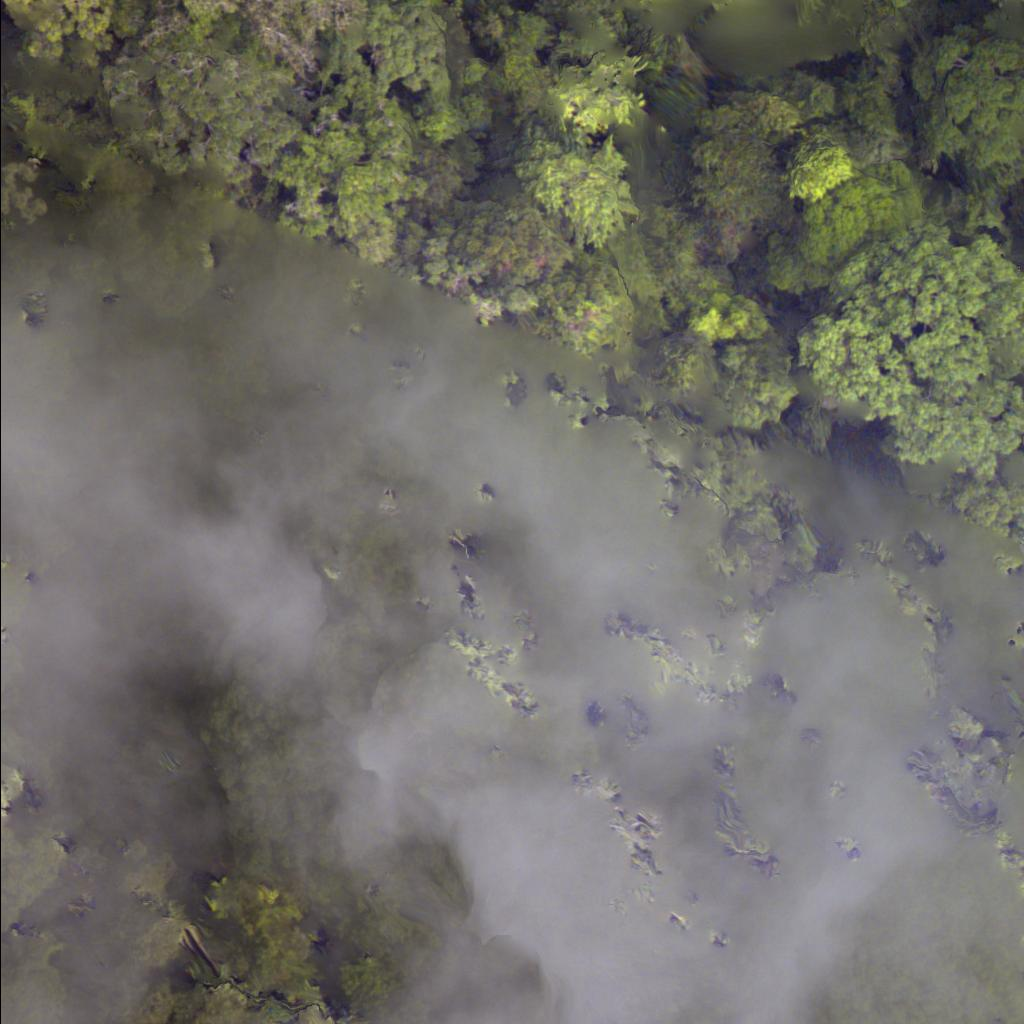crown: (821, 225, 1023, 493), (762, 98, 938, 305), (81, 37, 305, 180), (903, 44, 1023, 202), (149, 0, 349, 66), (0, 0, 137, 44), (535, 0, 735, 21), (1019, 486, 1023, 501)
